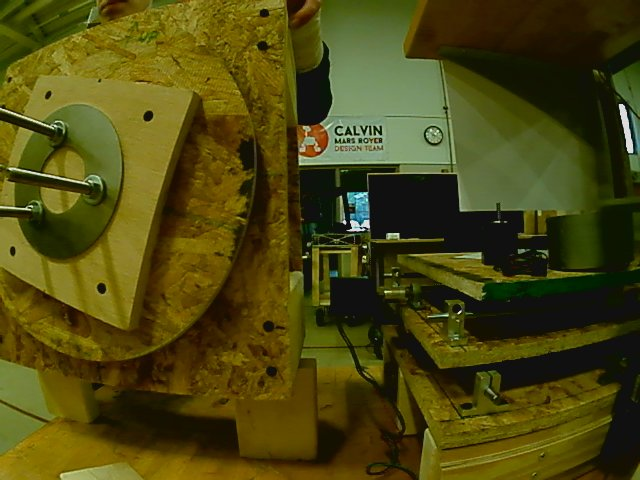bolt: (81, 172, 107, 206), (22, 199, 46, 230), (47, 118, 67, 149)
